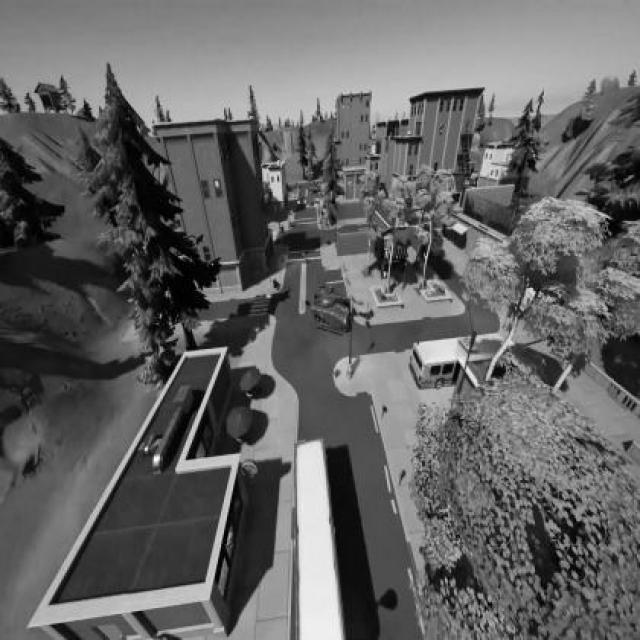tank: (311, 284, 364, 336), (308, 182, 320, 194)
